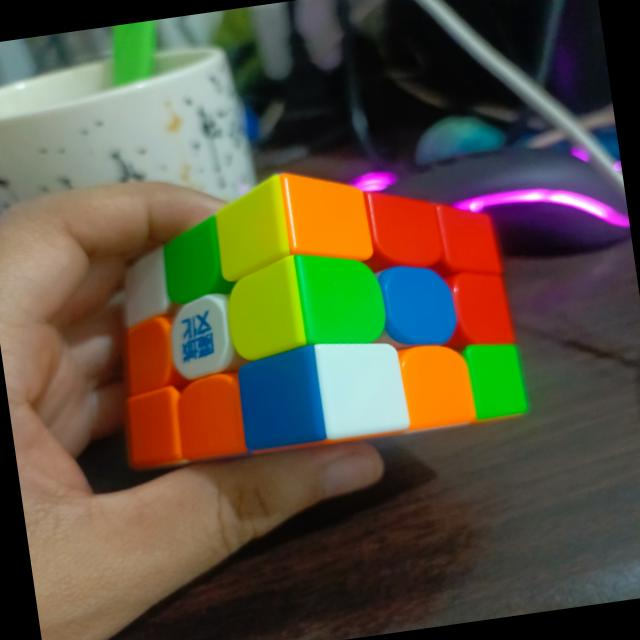rubik: (91, 141, 532, 474)
